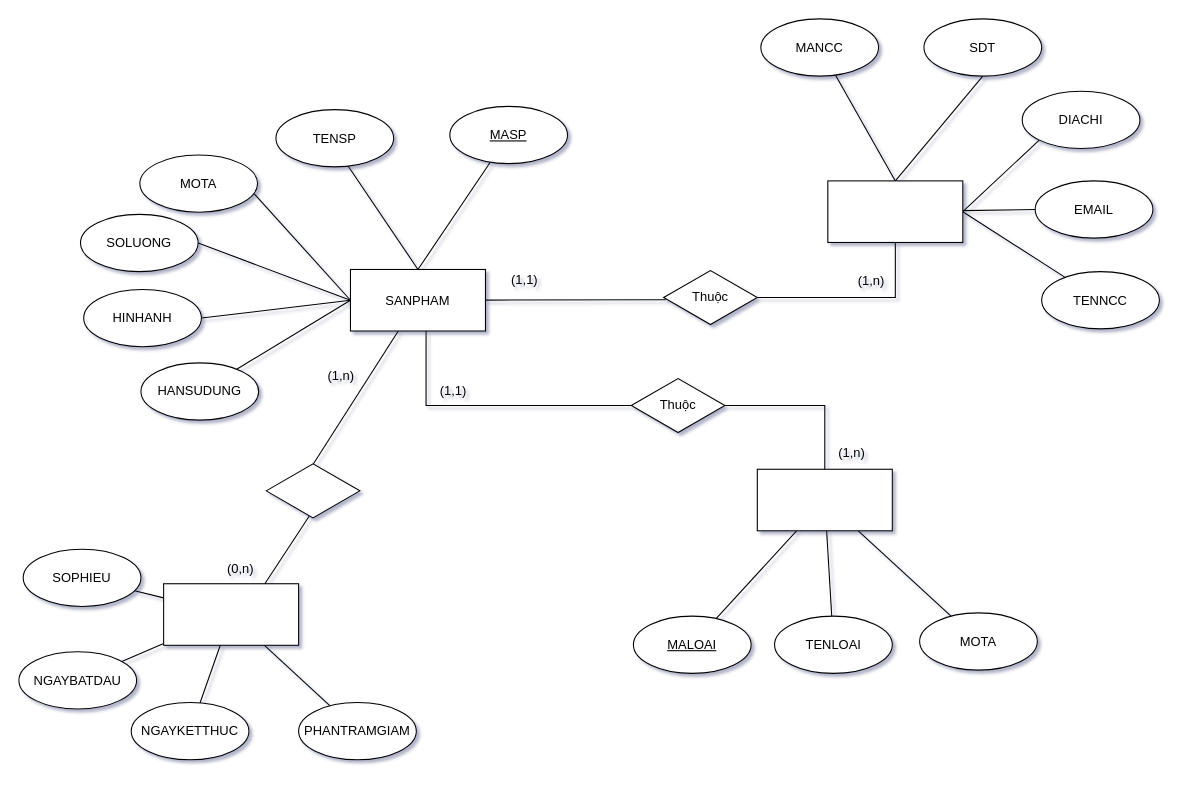
This 1185x785 diagram has some shape labels left out. The centre of each missing label's shape, as x and y in pixels:
GIAMGIASP: [231,614]
LOAISANPHAM: [824,499]
NHACUNGCAP: [895,211]
Áp dụng: [312,490]
